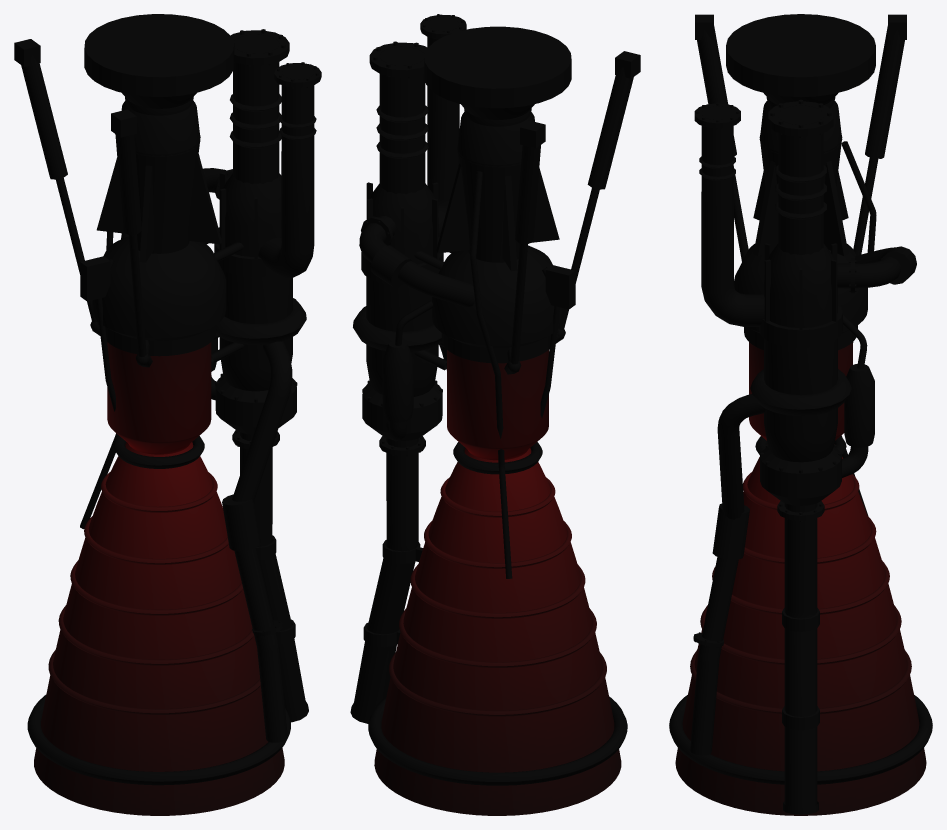
File: eng_kerolox_workhorse.fbx
3 renders of one model, left to right at view 1: azimuth 30°, elevation 25°; view 2: azimuth 150°, elevation 25°; view 3: azimuth 270°, elevation 25°, orthographic.
Visible parts, largest first — view 1: eng_kerolox_workhorse_LOD0; view 2: eng_kerolox_workhorse_LOD0; view 3: eng_kerolox_workhorse_LOD0.
Part boxes in pixels (x1,y1,x2,y2): eng_kerolox_workhorse_LOD0: (14, 14, 321, 815); eng_kerolox_workhorse_LOD0: (350, 14, 640, 815); eng_kerolox_workhorse_LOD0: (669, 14, 932, 815).
Size of what is drawn, in the model's own units: 1.11 by 2.9 by 0.9665.
